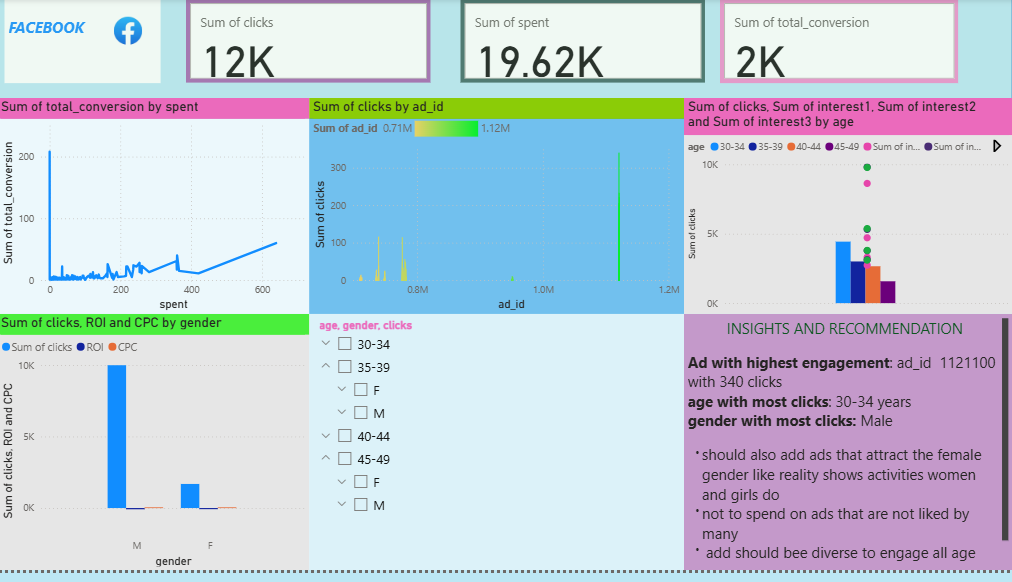

What the dashboard file says about the page in this screenshot:
{"tool":"powerbi","page":{"name":"Page 1","canvas":[1280,720],"ordinal":0},"visuals":[{"type":"textbox","box":[9.4,0,196.5,105.8],"z":0},{"type":"image","box":[124.7,17,81.3,45.4],"z":1000},{"type":"cardVisual","fields":{"Data":["Sum(data.clicks)"]},"box":[238.1,0,308,105],"z":2000},{"type":"cardVisual","fields":{"Data":["Sum(data.total_conversion)"]},"box":[910.9,0,300,105.8],"z":3000},{"type":"cardVisual","fields":{"Data":["Sum(data.spent)"]},"box":[583.9,0,308,105],"z":4000},{"type":"shape","box":[0,0,1279.4,151.2],"z":5000},{"type":"clusteredColumnChart","fields":{"Category":["data.ad_id"],"Y":["Sum(data.clicks)"]},"box":[393.1,124.7,472.4,272.1],"z":6000},{"type":"lineChart","fields":{"Category":["data.spent"],"Y":["Sum(data.total_conversion)"]},"box":[0,124.7,393.1,272.1],"z":7000},{"type":"lineClusteredColumnComboChart","fields":{"Category":["data.gender"],"Y":["Sum(data.clicks)","data.ROI","data.CPC"]},"box":[0,396.9,393.1,323.2],"z":8000},{"type":"lineClusteredColumnComboChart","fields":{"Y":["Sum(data.clicks)"],"Series":["data.age"],"Y2":["Sum(data.interest1)","Sum(data.interest2)","Sum(data.interest3)"]},"box":[865.5,124.7,413.9,272.1],"z":9000},{"type":"slicer","fields":{"Values":["data.age","data.gender","data.clicks"]},"box":[393.1,396.9,472.4,323.2],"z":10000},{"type":"textbox","box":[865.5,396.9,413.9,323.2],"z":11000}]}

Visuals, with their boxes in screenshot pixels (x1, y1, x2, y2), scaled from the page's 1280x720 canvas onto the 1012x582 screenshot:
textbox: [left=7, top=0, right=163, bottom=86]
image: [left=99, top=14, right=163, bottom=50]
cardVisual - Sum(data.clicks): [left=188, top=0, right=432, bottom=85]
cardVisual - Sum(data.total_conversion): [left=720, top=0, right=957, bottom=86]
cardVisual - Sum(data.spent): [left=462, top=0, right=705, bottom=85]
shape: [left=0, top=0, right=1011, bottom=122]
clusteredColumnChart - data.ad_id x Sum(data.clicks): [left=311, top=101, right=684, bottom=321]
lineChart - data.spent x Sum(data.total_conversion): [left=0, top=101, right=311, bottom=321]
lineClusteredColumnComboChart - data.gender x Sum(data.clicks): [left=0, top=321, right=311, bottom=581]
lineClusteredColumnComboChart - Sum(data.clicks) x data.age: [left=684, top=101, right=1011, bottom=321]
slicer - data.age x data.gender: [left=311, top=321, right=684, bottom=581]
textbox: [left=684, top=321, right=1011, bottom=581]
